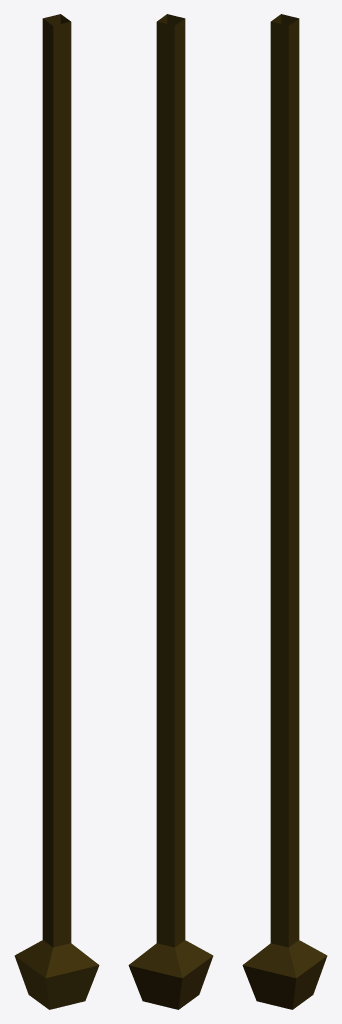
File: itm_model0_throwing_rope.obj
The picture shows the model from 3 angles, left to right: view 1: azimuth 30°, elevation 25°; view 2: azimuth 150°, elevation 25°; view 3: azimuth 330°, elevation 25°; orthographic projection.
Size of the model in its own units: 0.1875 by 3.25 by 0.1875.
